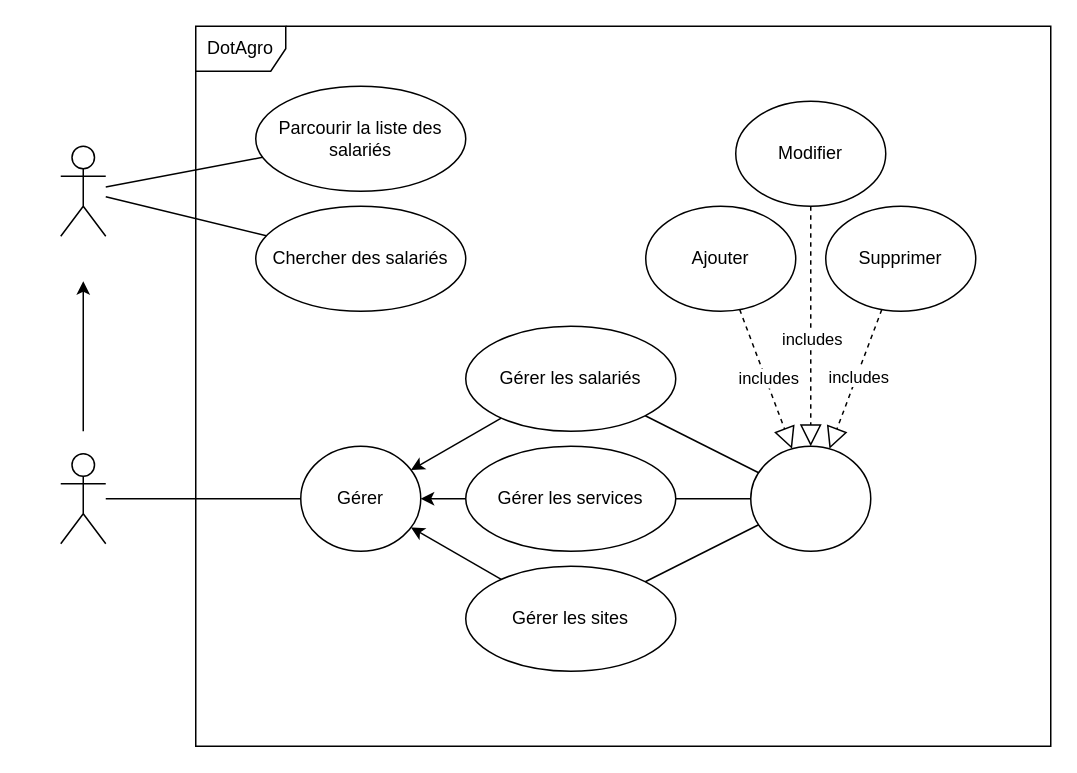
Image size: 1077x773. Some labels were removed from this diagram. The centre of each missing label's shape, as x and y in pixels:
"Administrateur" belongs at point 82,498.
"Editer" belongs at point 810,498.
"Visiteur" belongs at point 82,190.
